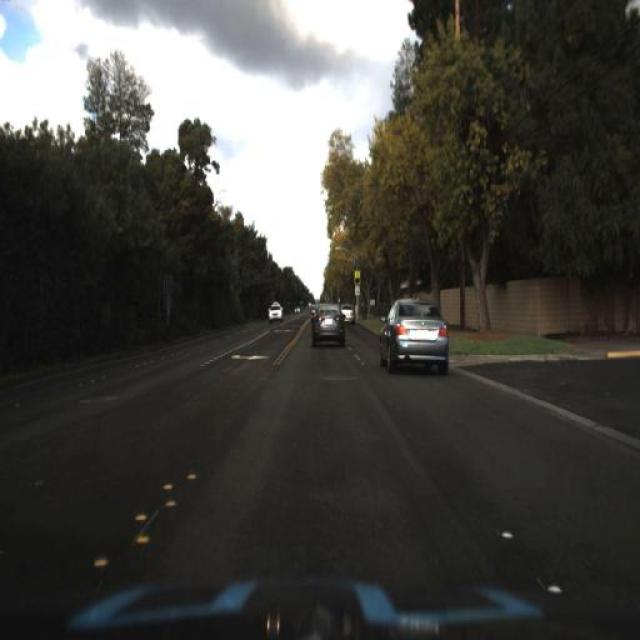car: (374, 293, 454, 378), (304, 300, 348, 350), (338, 296, 357, 326), (266, 298, 283, 322)
